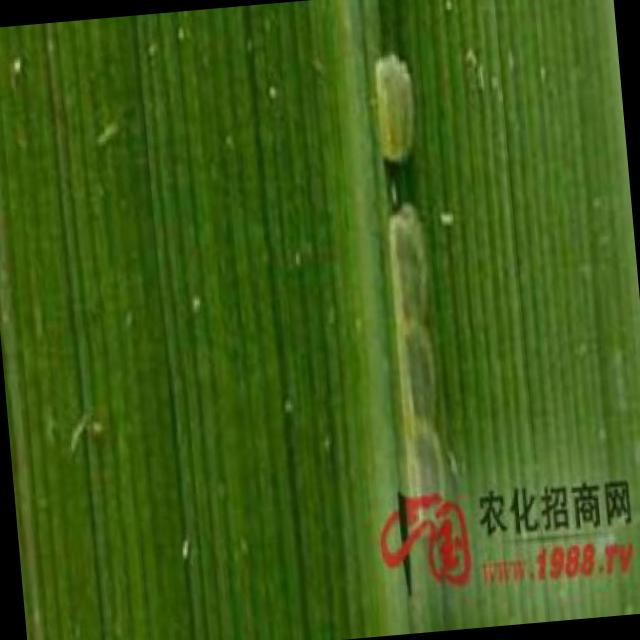leaf-folder: (364, 34, 454, 481)
